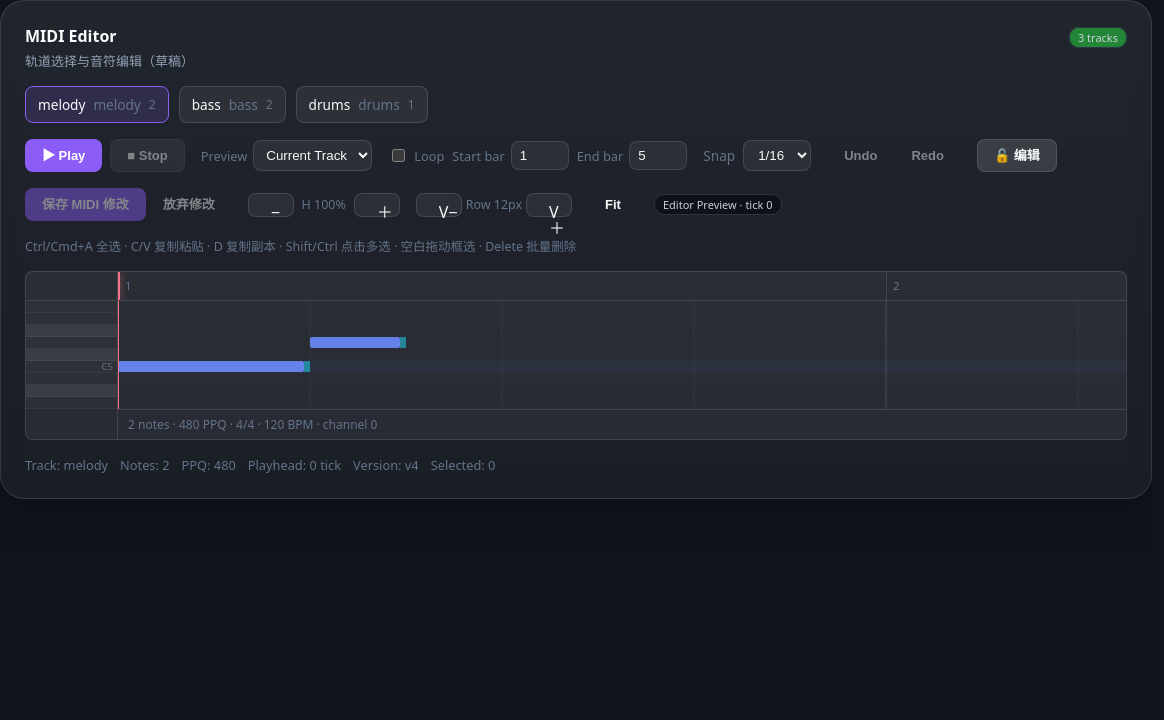
Test: MidiEditor › switching to drums shows drum notes
The image size is (1164, 720).
Click the option "drums drums 1" at (362, 104), box [296,86,428,123]
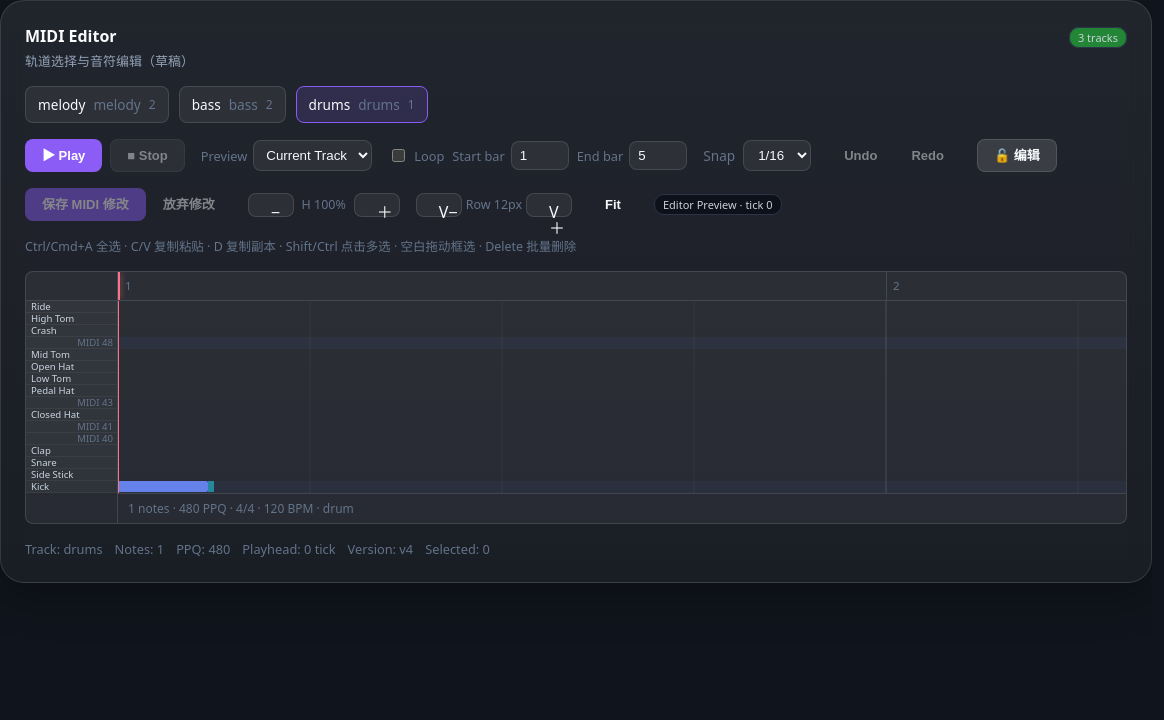
Expected: the text "Track: drums" is shown, [25,540,103,558]
Expected: the text "Kick" is shown, [31,480,49,493]
Expected: the text "Snare" is shown, [31,456,57,469]
